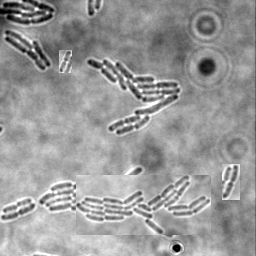Dividing: (1, 204, 37, 222), (222, 164, 240, 200), (3, 199, 33, 215), (140, 197, 169, 209), (59, 50, 72, 73)
Microcolony: (76, 175, 211, 235), (87, 59, 181, 136), (5, 30, 52, 72), (1, 1, 56, 26)
